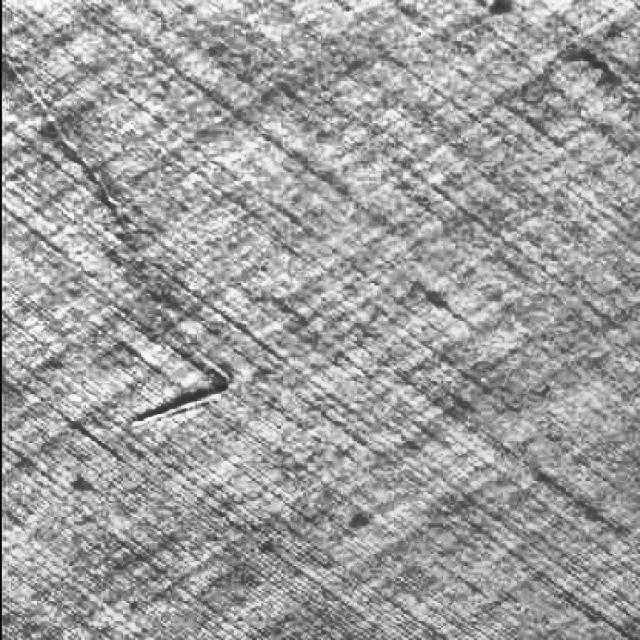objects: (3, 41, 246, 440)
